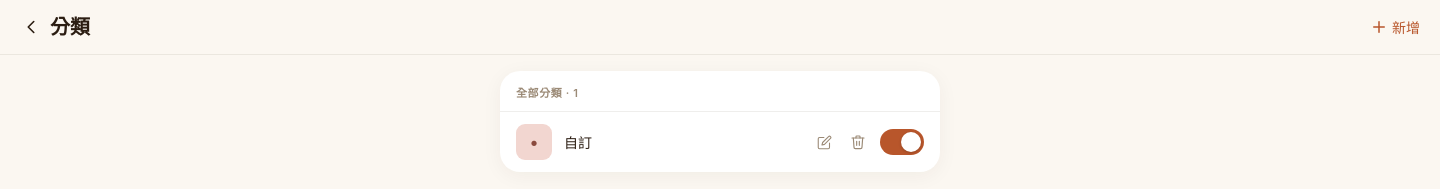
Test: CategoryManager › 刪除操作 › 確認刪除後分類從列表移除
This screenshot has width=1440, height=189.
Click the button named "刪除": (858, 142) x1=846 y1=130 x2=870 y2=154
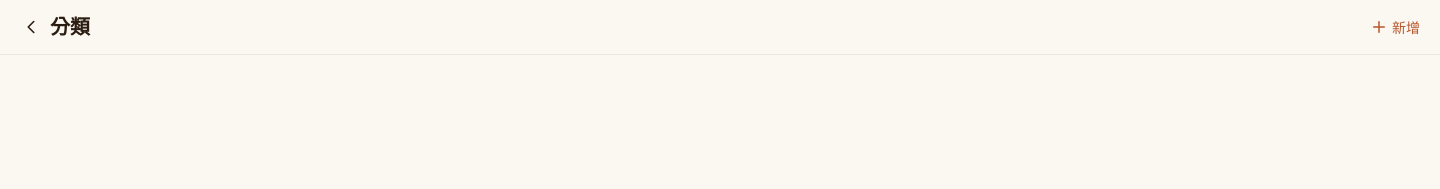
Expected: the text "自訂" is gone
